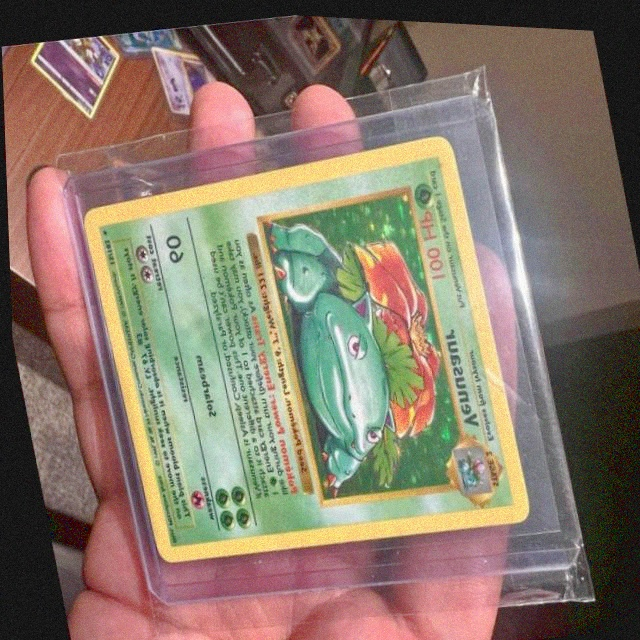card: (81, 130, 526, 562)
